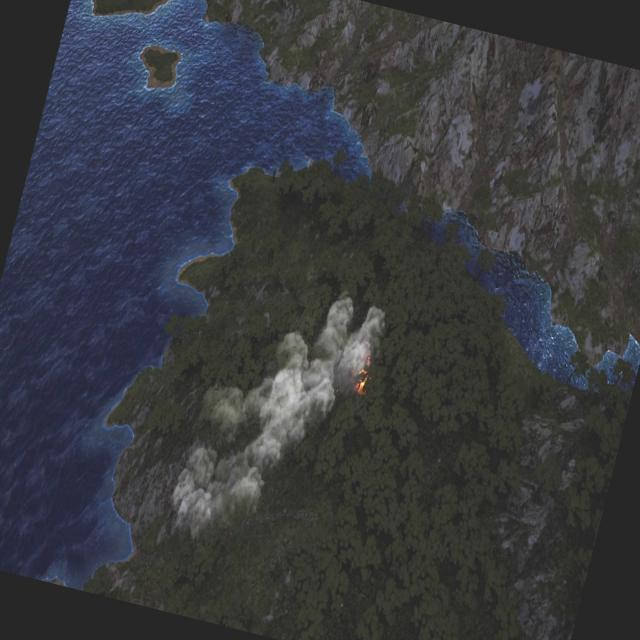fire: (348, 342, 376, 396)
smoke: (157, 261, 387, 570)
